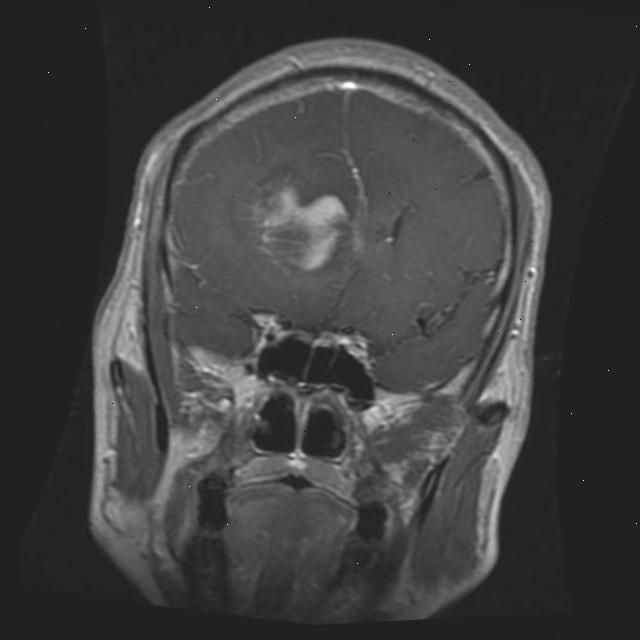Glioma: (249, 178, 353, 281)
